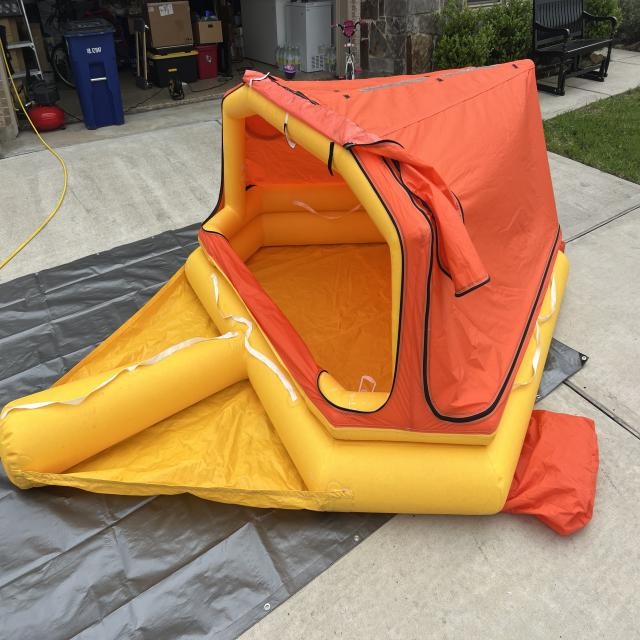Multi-person_life_raft: (0, 58, 600, 535)
